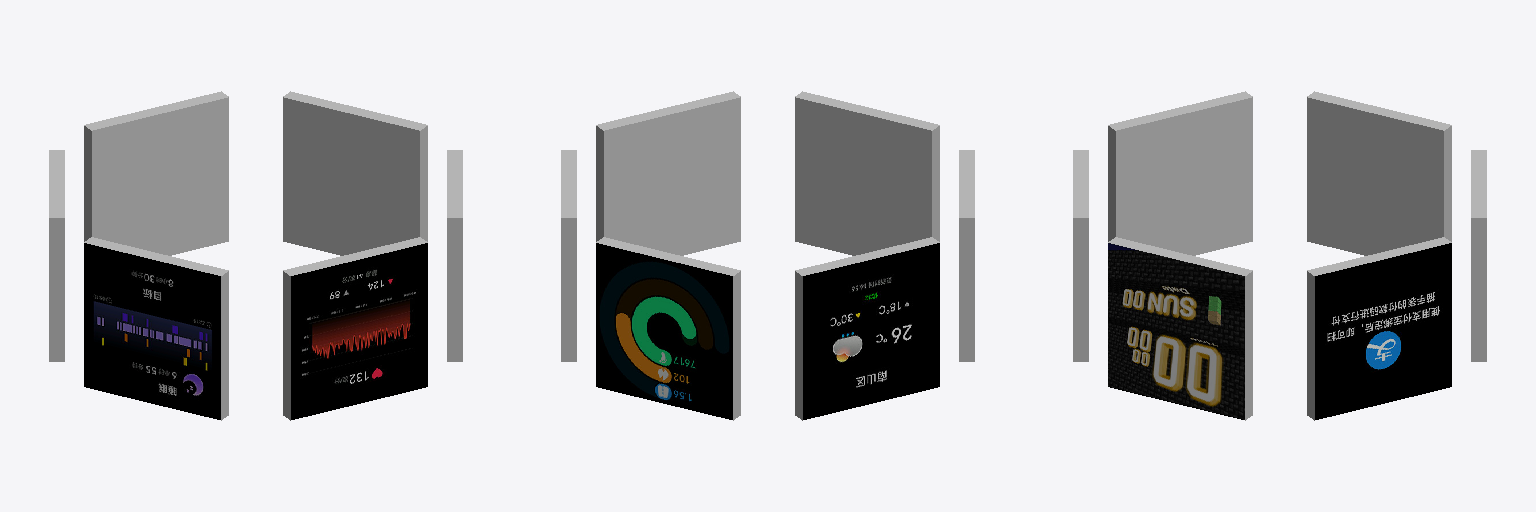
3 renders of one model, left to right at view 1: azimuth 30°, elevation 25°; view 2: azimuth 150°, elevation 25°; view 3: azimuth 270°, elevation 25°, orthographic.
Visible parts, largest first — view 1: 立方体.004, 立方体.003, 立方体.001, 立方体, 立方体.002, 立方体.005; view 2: 立方体, 立方体.005, 立方体.002, 立方体.003, 立方体.001, 立方体.004; view 3: 立方体.001, 立方体.002, 立方体.004, 立方体.005, 立方体, 立方体.003.
Part boxes in pixels (x1,y1,x2,y2): 立方体.004: (84,237,228,420); 立方体.003: (283,237,427,420); 立方体.001: (283,91,427,255); 立方体: (84,91,228,255); 立方体.002: (447,150,462,361); 立方体.005: (49,150,64,361); 立方体: (596,237,740,420); 立方体.005: (795,237,939,420); 立方体.002: (596,91,740,255); 立方体.003: (795,91,939,255); 立方体.001: (561,150,576,361); 立方体.004: (959,150,974,361); 立方体.001: (1307,237,1451,420); 立方体.002: (1108,237,1252,420); 立方体.004: (1108,91,1252,255); 立方体.005: (1307,91,1451,255); 立方体: (1471,150,1486,361); 立方体.003: (1073,150,1088,361).
Bounding box in the file's own units: 5.5 × 2 × 5.2.
7 materials, 6 textured.